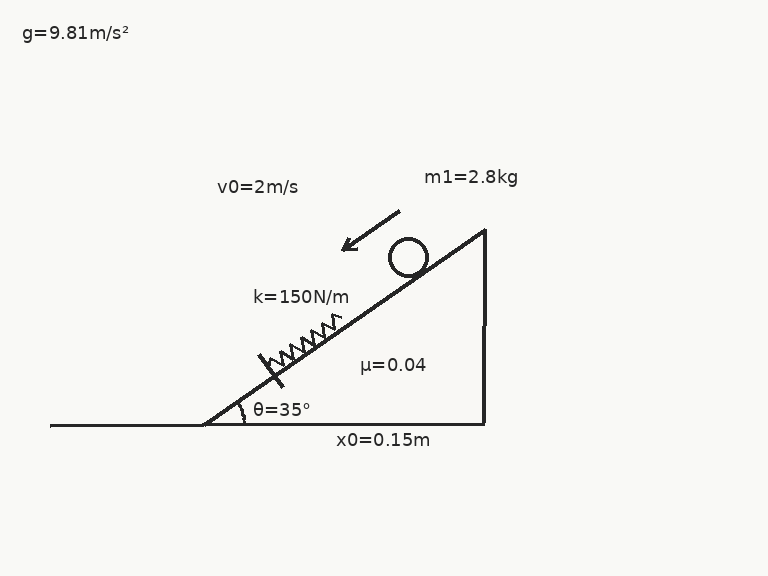ball: (386, 235, 430, 279)
ramp: (202, 226, 485, 426)
spring: (267, 313, 343, 370)
